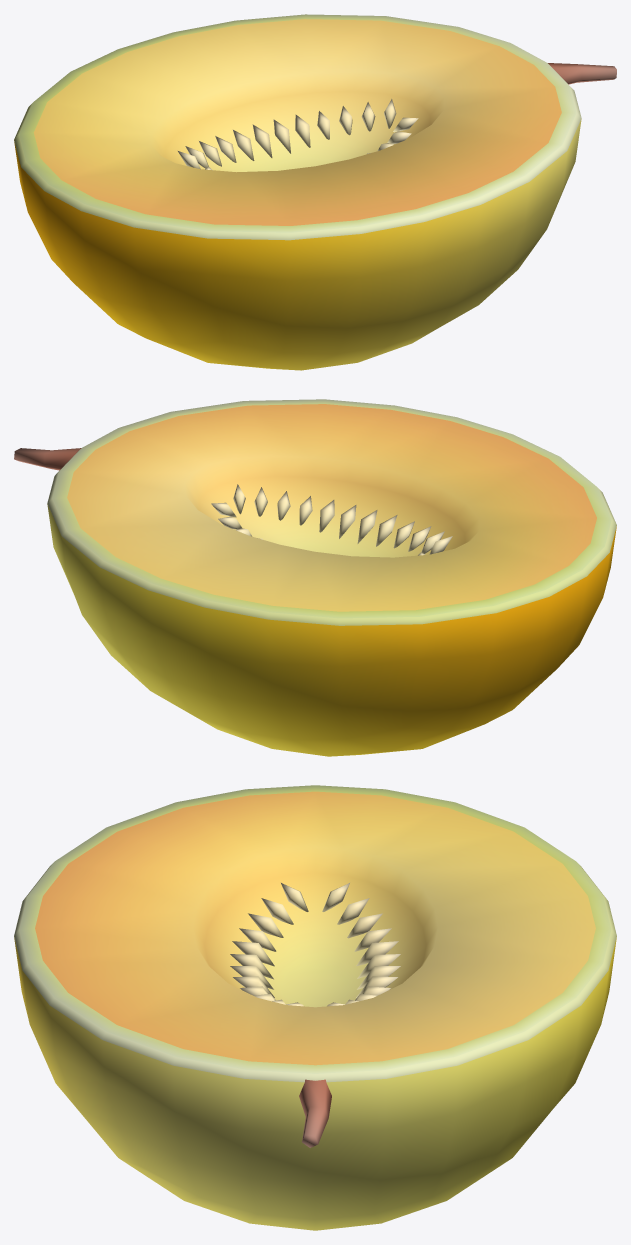
The model's file is melon_002.fbx.
3 views of the same model, one above another, from view 1: azimuth 30°, elevation 25°; view 2: azimuth 150°, elevation 25°; view 3: azimuth 270°, elevation 25° (orthographic). The views are drawn at different scales.
Parts seen in each view (by area): view 1: melon_002; view 2: melon_002; view 3: melon_002.
Boxes of the visible parts, bbox=[...] form: melon_002: bbox=[14, 14, 616, 370]; melon_002: bbox=[14, 399, 616, 756]; melon_002: bbox=[14, 785, 616, 1230].
Size of the model in its own units: 23.74 by 18.32 by 8.88.
